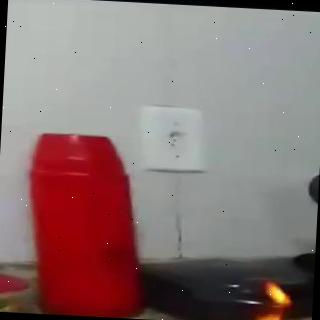fire: (251, 279, 313, 320)
